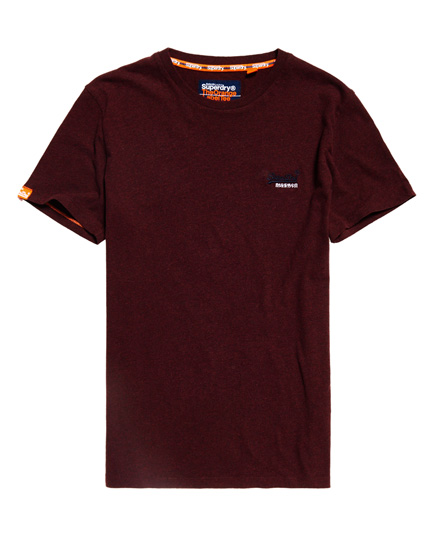T-Shirt: (14, 41, 427, 499)
